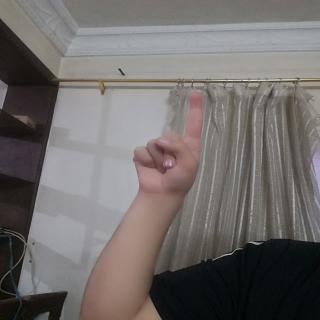BAA: (119, 82, 214, 200)
